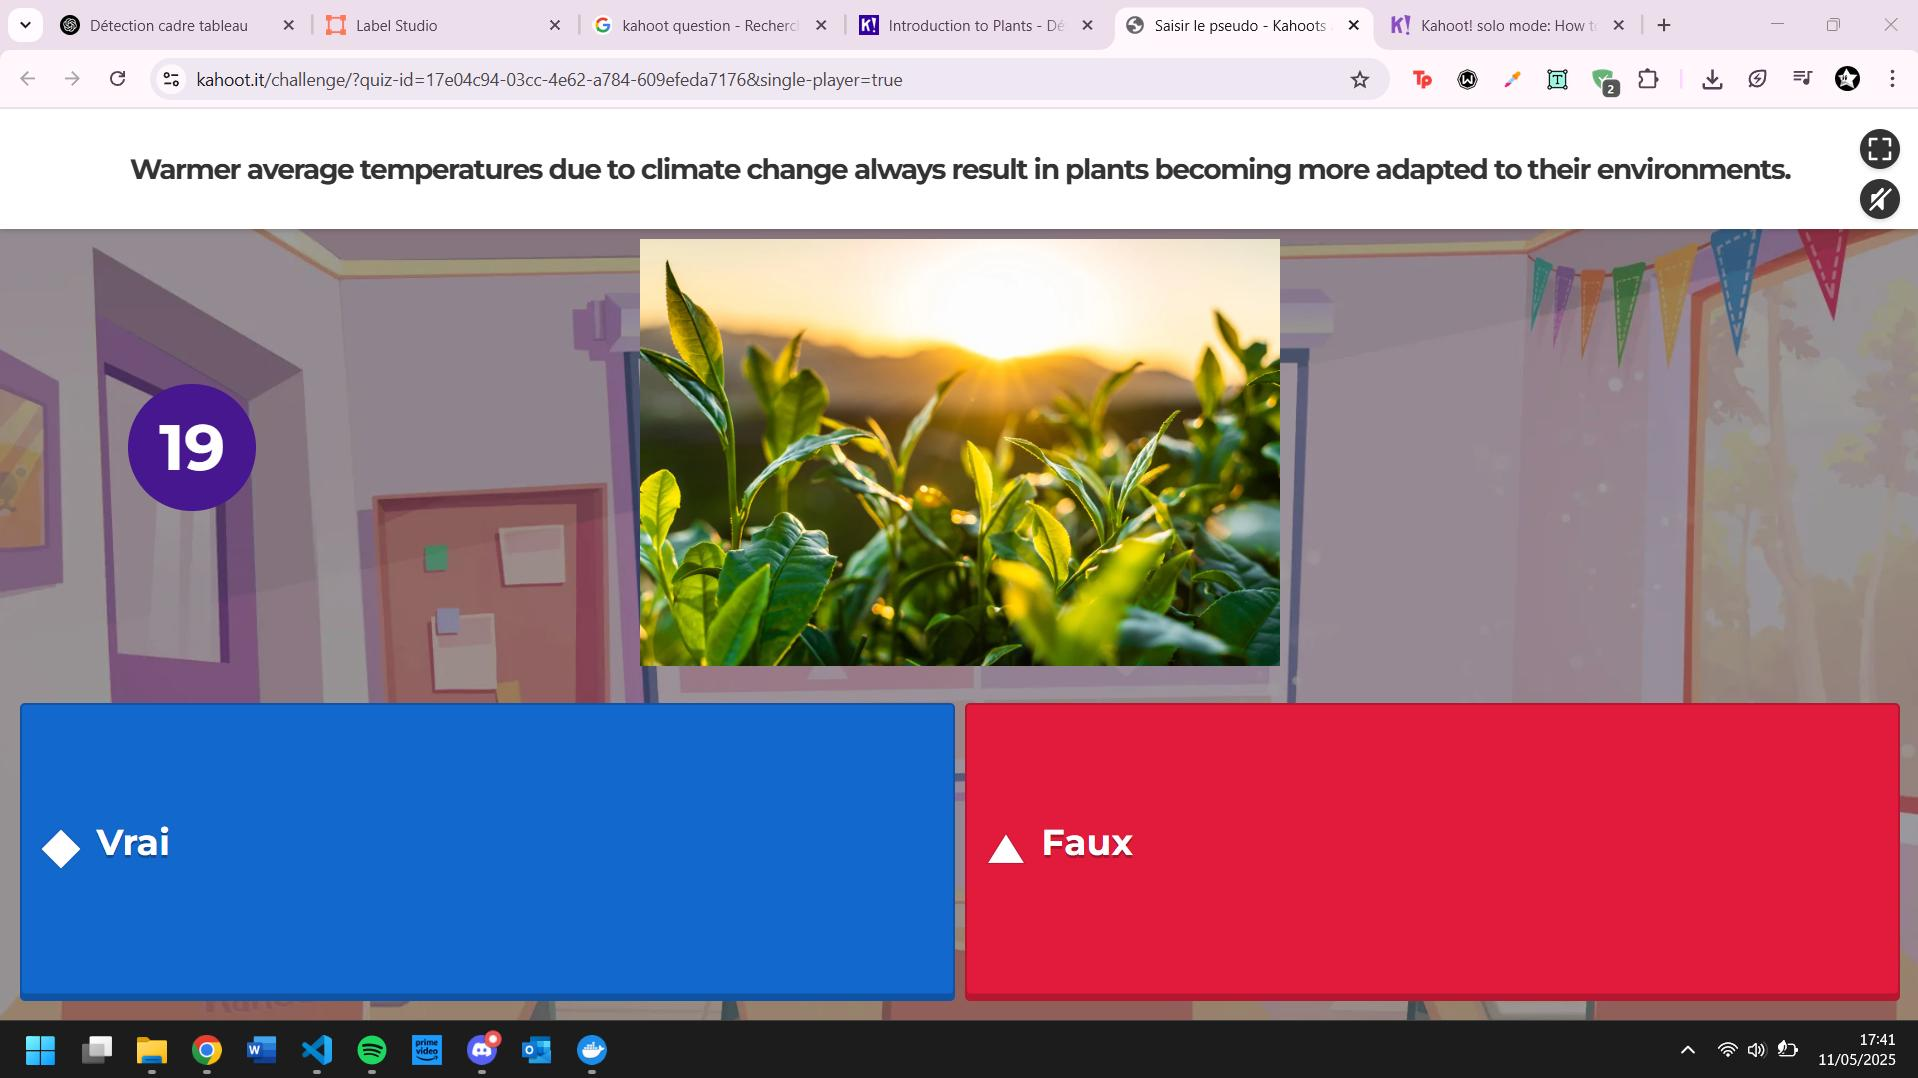answer_blue: (21, 704, 955, 988)
answer_red: (967, 706, 1898, 988)
question_box: (0, 111, 1842, 229)
